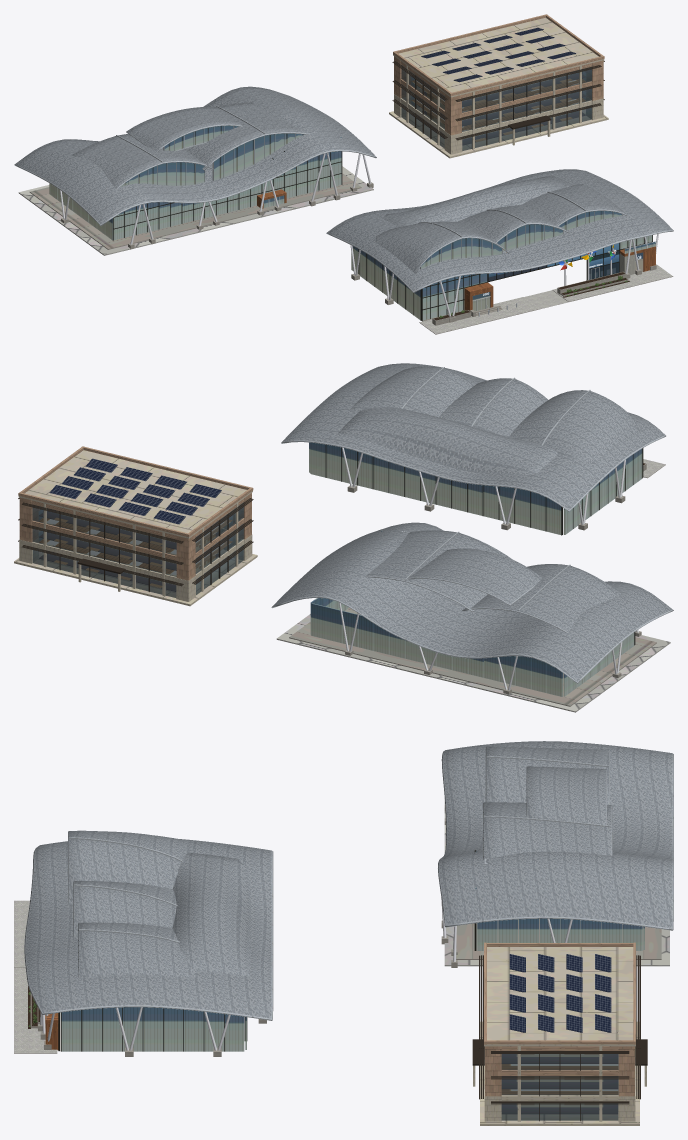
Rendered from gradient_canopy_v6.glb.
The picture shows the model from 3 angles, top to bottom: view 1: azimuth 30°, elevation 25°; view 2: azimuth 150°, elevation 25°; view 3: azimuth 270°, elevation 25°; orthographic projection. The views are drawn at different scales.
Visible parts, largest first — view 1: BayView_Dragonscale_Roof_V6, Canopy_Dragonscale_Shell_V6, Office_Pavilion_Limestone_Terracotta_Louvers_V6, BayView_Columns_Soffit_And_CurtainWall_V6, Visitor_Experience_CurtainWall_And_Wings_V6, Office_Pavilion_LowE_Glazing_V6, Visitor_Forecourt_HexPavers_Planter_Masts_V6, Office_Pavilion_Parallax_Rooms_V6, Canopy_Steel_VColumns_And_Trusses_V6; view 2: BayView_Dragonscale_Roof_V6, Canopy_Dragonscale_Shell_V6, Office_Pavilion_Limestone_Terracotta_Louvers_V6, BayView_Columns_Soffit_And_CurtainWall_V6, Visitor_Experience_CurtainWall_And_Wings_V6, Office_Pavilion_LowE_Glazing_V6, Office_Pavilion_Parallax_Rooms_V6, Canopy_Steel_VColumns_And_Trusses_V6; view 3: Canopy_Dragonscale_Shell_V6, BayView_Dragonscale_Roof_V6, Office_Pavilion_Limestone_Terracotta_Louvers_V6, Visitor_Experience_CurtainWall_And_Wings_V6, BayView_Columns_Soffit_And_CurtainWall_V6, Office_Pavilion_LowE_Glazing_V6, Office_Pavilion_Parallax_Rooms_V6, Visitor_Forecourt_HexPavers_Planter_Masts_V6, Canopy_Steel_VColumns_And_Trusses_V6.
Boxes of the visible parts, bbox=[...] form: BayView_Dragonscale_Roof_V6: bbox=[14, 86, 376, 225]; Canopy_Dragonscale_Shell_V6: bbox=[326, 169, 673, 292]; Office_Pavilion_Limestone_Terracotta_Louvers_V6: bbox=[389, 14, 608, 158]; BayView_Columns_Soffit_And_CurtainWall_V6: bbox=[18, 137, 373, 255]; Visitor_Experience_CurtainWall_And_Wings_V6: bbox=[351, 235, 655, 321]; Office_Pavilion_LowE_Glazing_V6: bbox=[401, 65, 591, 150]; Visitor_Forecourt_HexPavers_Planter_Masts_V6: bbox=[419, 255, 673, 334]; Office_Pavilion_Parallax_Rooms_V6: bbox=[411, 73, 585, 144]; Canopy_Steel_VColumns_And_Trusses_V6: bbox=[350, 233, 658, 322]; BayView_Dragonscale_Roof_V6: bbox=[271, 522, 673, 683]; Canopy_Dragonscale_Shell_V6: bbox=[281, 363, 665, 511]; Office_Pavilion_Limestone_Terracotta_Louvers_V6: bbox=[14, 446, 257, 606]; BayView_Columns_Soffit_And_CurtainWall_V6: bbox=[276, 530, 670, 712]; Visitor_Experience_CurtainWall_And_Wings_V6: bbox=[309, 442, 643, 535]; Office_Pavilion_LowE_Glazing_V6: bbox=[32, 502, 243, 597]; Office_Pavilion_Parallax_Rooms_V6: bbox=[39, 511, 232, 591]; Canopy_Steel_VColumns_And_Trusses_V6: bbox=[342, 447, 625, 530]; Canopy_Dragonscale_Shell_V6: bbox=[24, 830, 273, 1020]; BayView_Dragonscale_Roof_V6: bbox=[438, 741, 673, 930]; Office_Pavilion_Limestone_Terracotta_Louvers_V6: bbox=[472, 942, 647, 1125]; Visitor_Experience_CurtainWall_And_Wings_V6: bbox=[45, 1007, 247, 1051]; BayView_Columns_Soffit_And_CurtainWall_V6: bbox=[441, 799, 669, 967]; Office_Pavilion_LowE_Glazing_V6: bbox=[501, 1054, 618, 1120]; Office_Pavilion_Parallax_Rooms_V6: bbox=[502, 1054, 617, 1113]; Visitor_Forecourt_HexPavers_Planter_Masts_V6: bbox=[14, 900, 57, 1053]; Canopy_Steel_VColumns_And_Trusses_V6: bbox=[38, 1007, 266, 1056].
Bounding box in the file's own units: 117 × 15.69 × 97.3.
6 materials, 6 textured.
